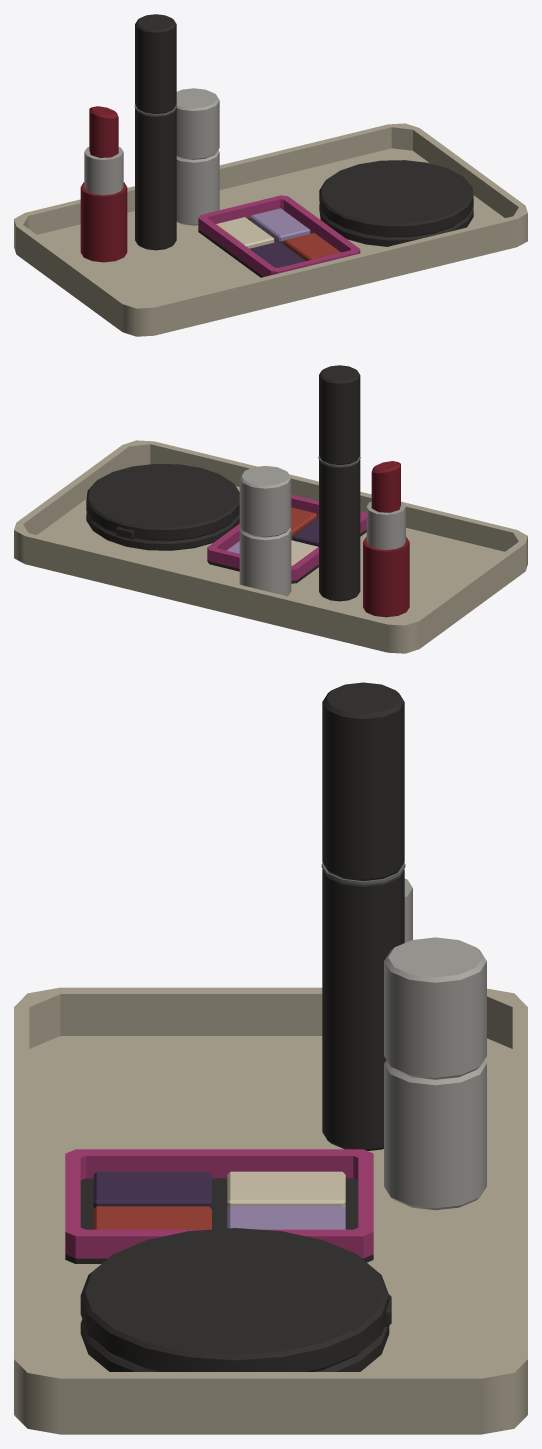
The model's file is makeup-tray-415d2037a5e5.glb.
3 views of the same model, one above another, from view 1: azimuth 30°, elevation 25°; view 2: azimuth 150°, elevation 25°; view 3: azimuth 270°, elevation 25° (orthographic). The views are drawn at different scales.
Parts seen in each view (by area): view 1: plastic-light, plastic-dark, brushed, accent-crimson, accent-magenta, accent-lilac, paper, accent-warm, accent-purple; view 2: plastic-light, plastic-dark, brushed, accent-crimson, accent-magenta, accent-warm, accent-purple, paper; view 3: plastic-light, plastic-dark, brushed, accent-magenta, paper, accent-purple, accent-warm, accent-lilac.
Boxes of the visible parts, left/top/right/bottom form: plastic-light: left=14, top=123, right=527, bottom=336; plastic-dark: left=135, top=14, right=473, bottom=277; brushed: left=84, top=88, right=219, bottom=225; accent-crimson: left=80, top=106, right=127, bottom=262; accent-magenta: left=198, top=195, right=360, bottom=276; accent-lilac: left=250, top=208, right=310, bottom=241; paper: left=216, top=217, right=274, bottom=248; accent-warm: left=284, top=233, right=340, bottom=260; accent-purple: left=250, top=241, right=304, bottom=267; plastic-light: left=14, top=440, right=527, bottom=653; plastic-dark: left=86, top=365, right=366, bottom=601; brushed: left=239, top=466, right=405, bottom=596; accent-crimson: left=363, top=461, right=409, bottom=617; accent-magenta: left=207, top=494, right=366, bottom=580; accent-warm: left=290, top=507, right=316, bottom=536; accent-purple: left=293, top=518, right=318, bottom=546; paper: left=291, top=540, right=317, bottom=565; plastic-light: left=14, top=987, right=527, bottom=1434; plastic-dark: left=65, top=682, right=404, bottom=1371; brushed: left=384, top=878, right=486, bottom=1210; accent-magenta: left=65, top=1149, right=373, bottom=1258; paper: left=227, top=1171, right=345, bottom=1208; accent-purple: left=93, top=1171, right=211, bottom=1208; accent-warm: left=93, top=1206, right=211, bottom=1229; accent-lilac: left=227, top=1206, right=345, bottom=1229.
Size of the model in its own units: 0.18 by 0.097 by 0.1.
